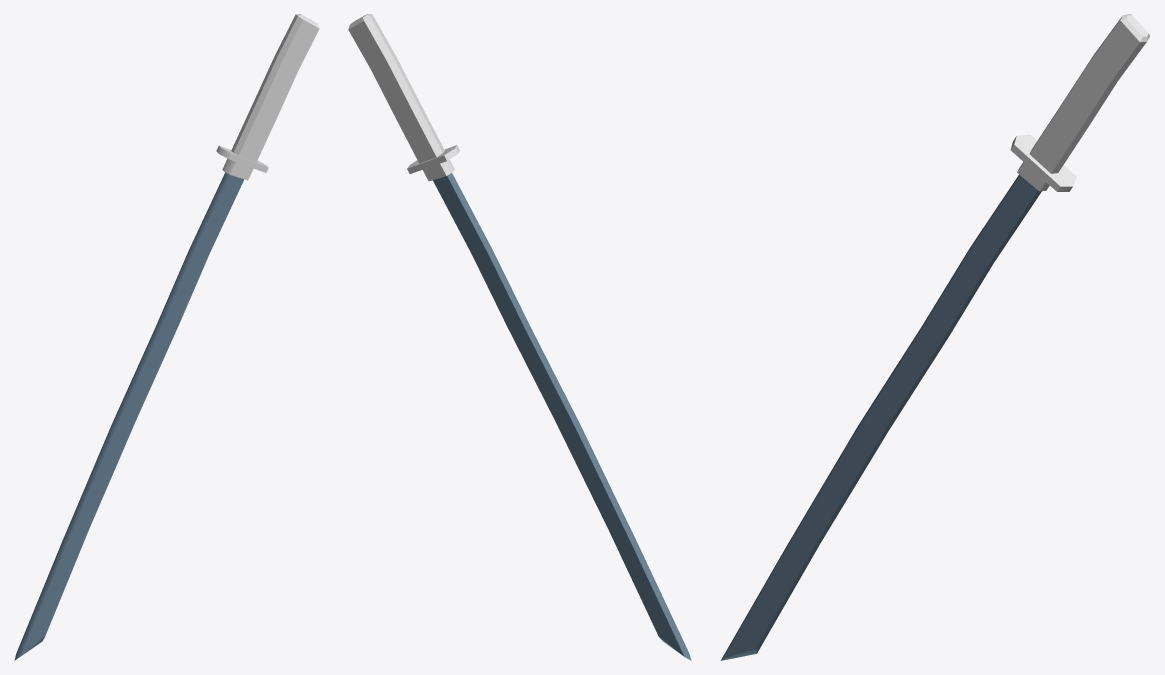
File: Katana 1.fbx
3 renders of one model, left to right at view 1: azimuth 30°, elevation 25°; view 2: azimuth 150°, elevation 25°; view 3: azimuth 330°, elevation 25°, orthographic. The views are drawn at different scales.
Parts seen in each view (by area): view 1: Katana; view 2: Katana; view 3: Katana.
Boxes of the visible parts, x1,y1,x2,y2 form: Katana: (14, 14, 319, 660); Katana: (348, 14, 691, 660); Katana: (720, 14, 1150, 660).
Size of the model in its own units: 81.43 by 138 by 8.89.
